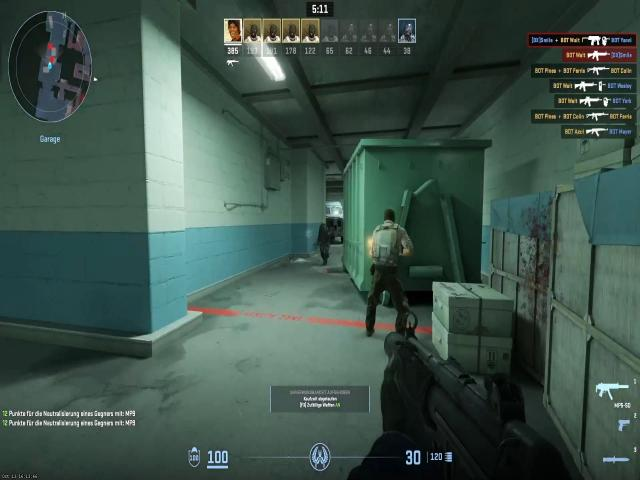Dead: (312, 219, 332, 268)
T: (366, 215, 411, 283)
T-Head: (381, 204, 401, 232)
